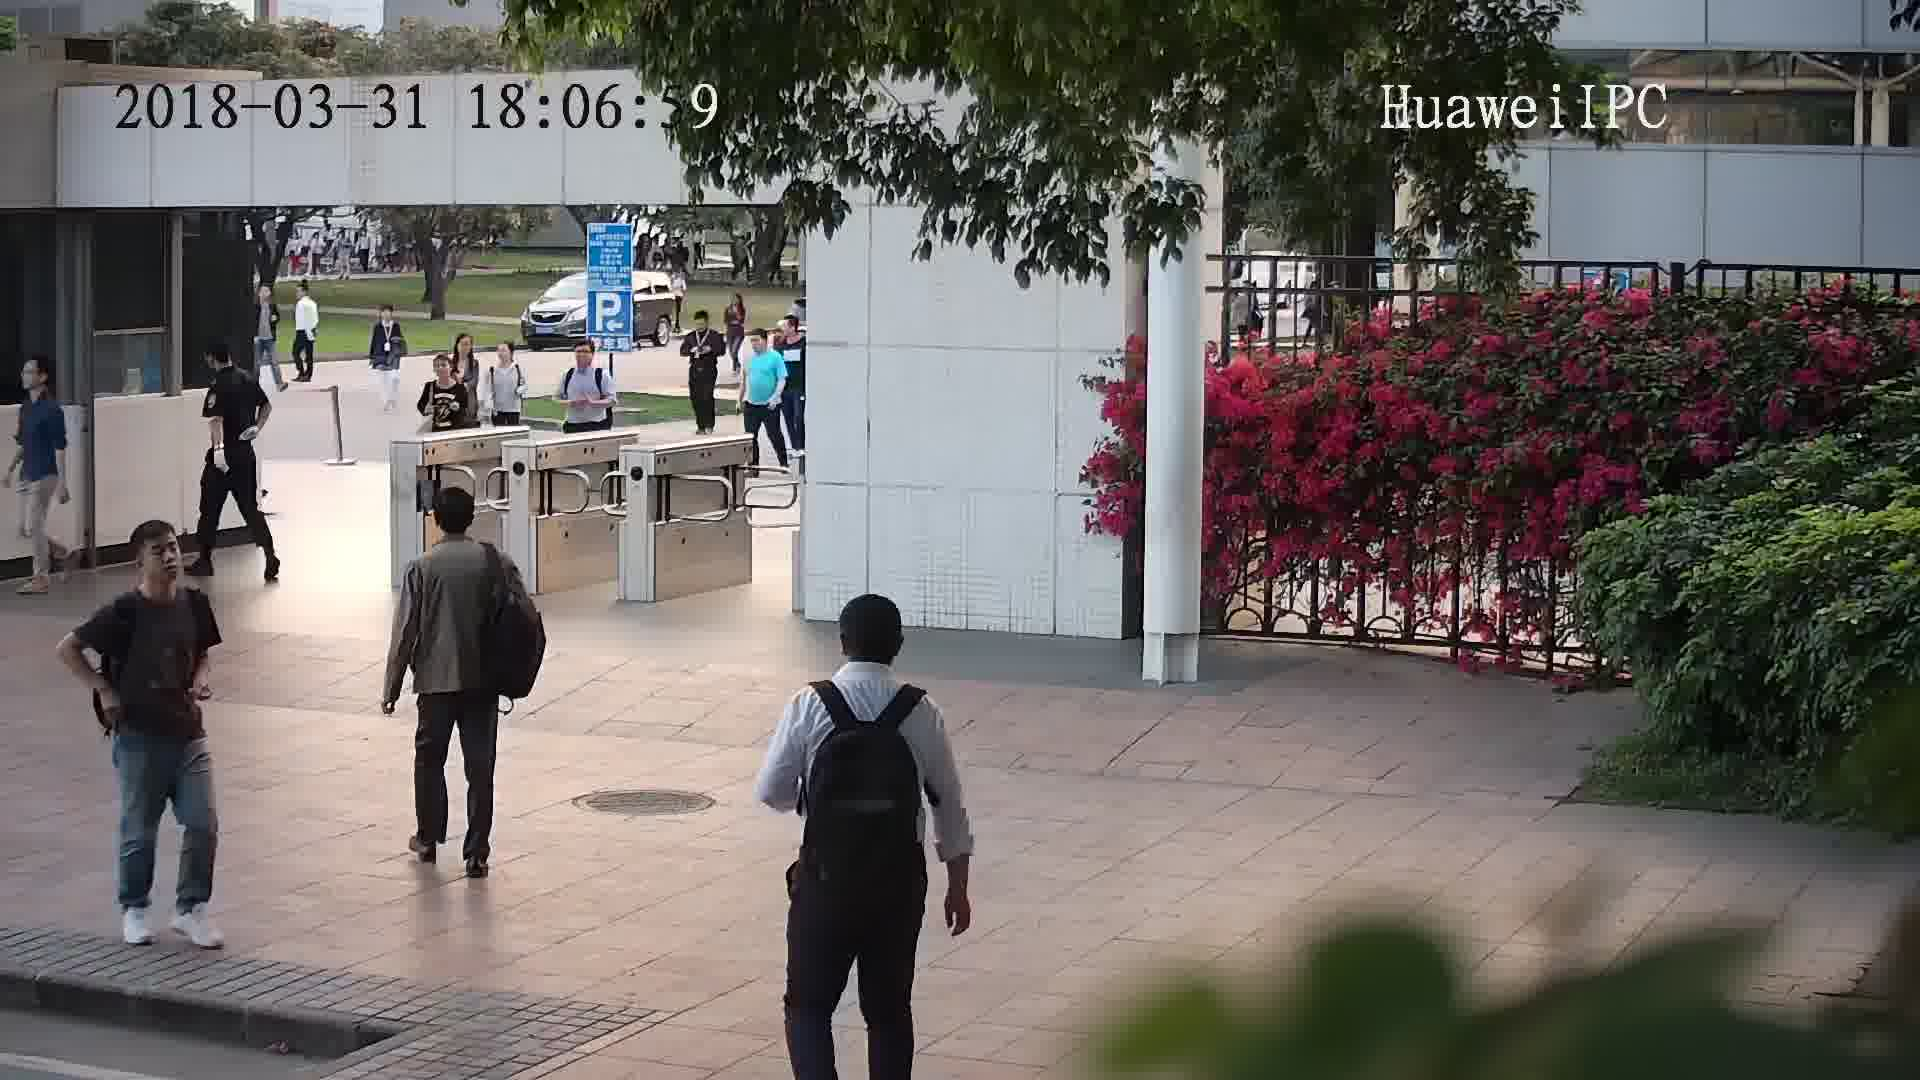face: (136, 528, 193, 585)
person: (788, 589, 939, 725), (89, 518, 217, 630), (407, 483, 506, 584), (16, 352, 64, 418), (206, 336, 258, 396), (423, 352, 469, 402), (565, 337, 609, 382), (743, 323, 787, 366), (447, 332, 485, 380), (486, 337, 526, 380), (773, 313, 808, 354), (688, 309, 722, 342), (371, 299, 401, 335), (255, 282, 281, 315), (291, 277, 317, 310), (727, 286, 750, 312)
